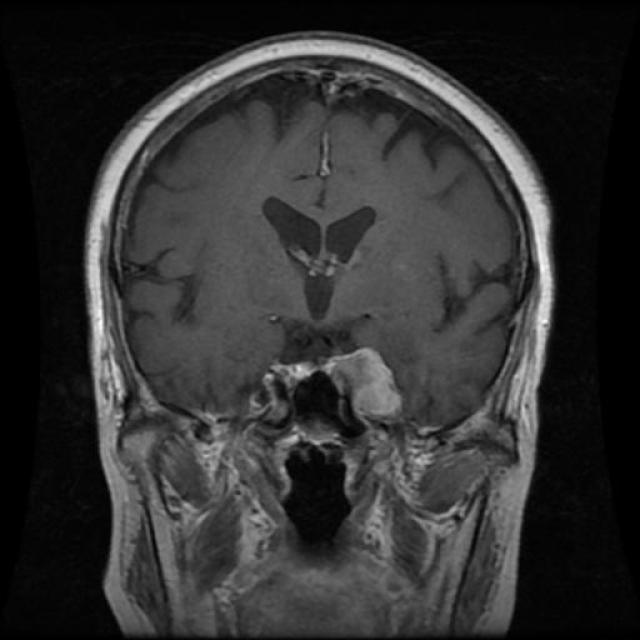meningioma: (342, 361, 402, 421)
